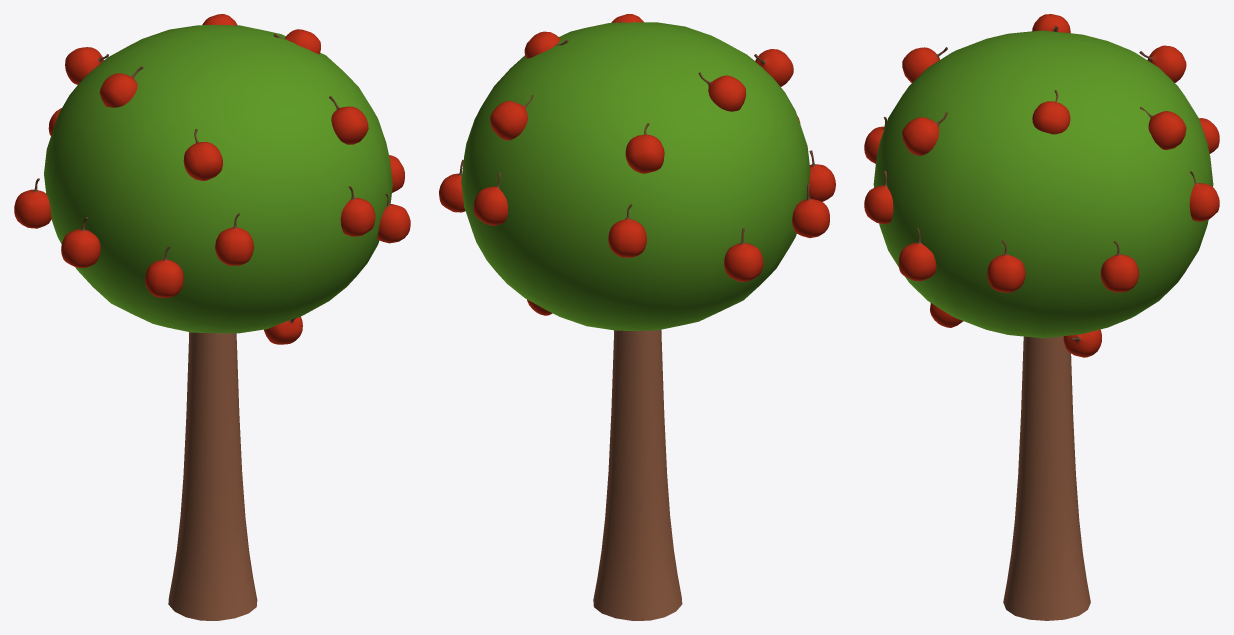
File: tree2.fbx
3 views of the same model, side by side, from view 1: azimuth 30°, elevation 25°; view 2: azimuth 150°, elevation 25°; view 3: azimuth 270°, elevation 25° (orthographic).
Visible parts, largest first — view 1: Cube.092; view 2: Cube.092; view 3: Cube.092.
Boxes of the visible parts, x1,y1,x2,y2 form: Cube.092: (14,14,410,620); Cube.092: (439,14,835,620); Cube.092: (864,14,1219,620).
Bounding box in the file's own units: 3.47 × 3.18 × 5.46.
